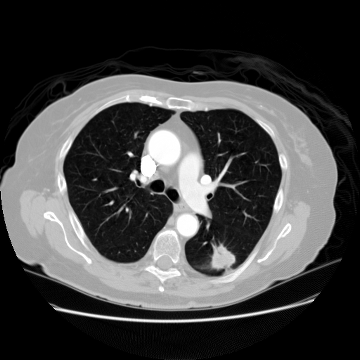nodule: (210, 246, 234, 270)
